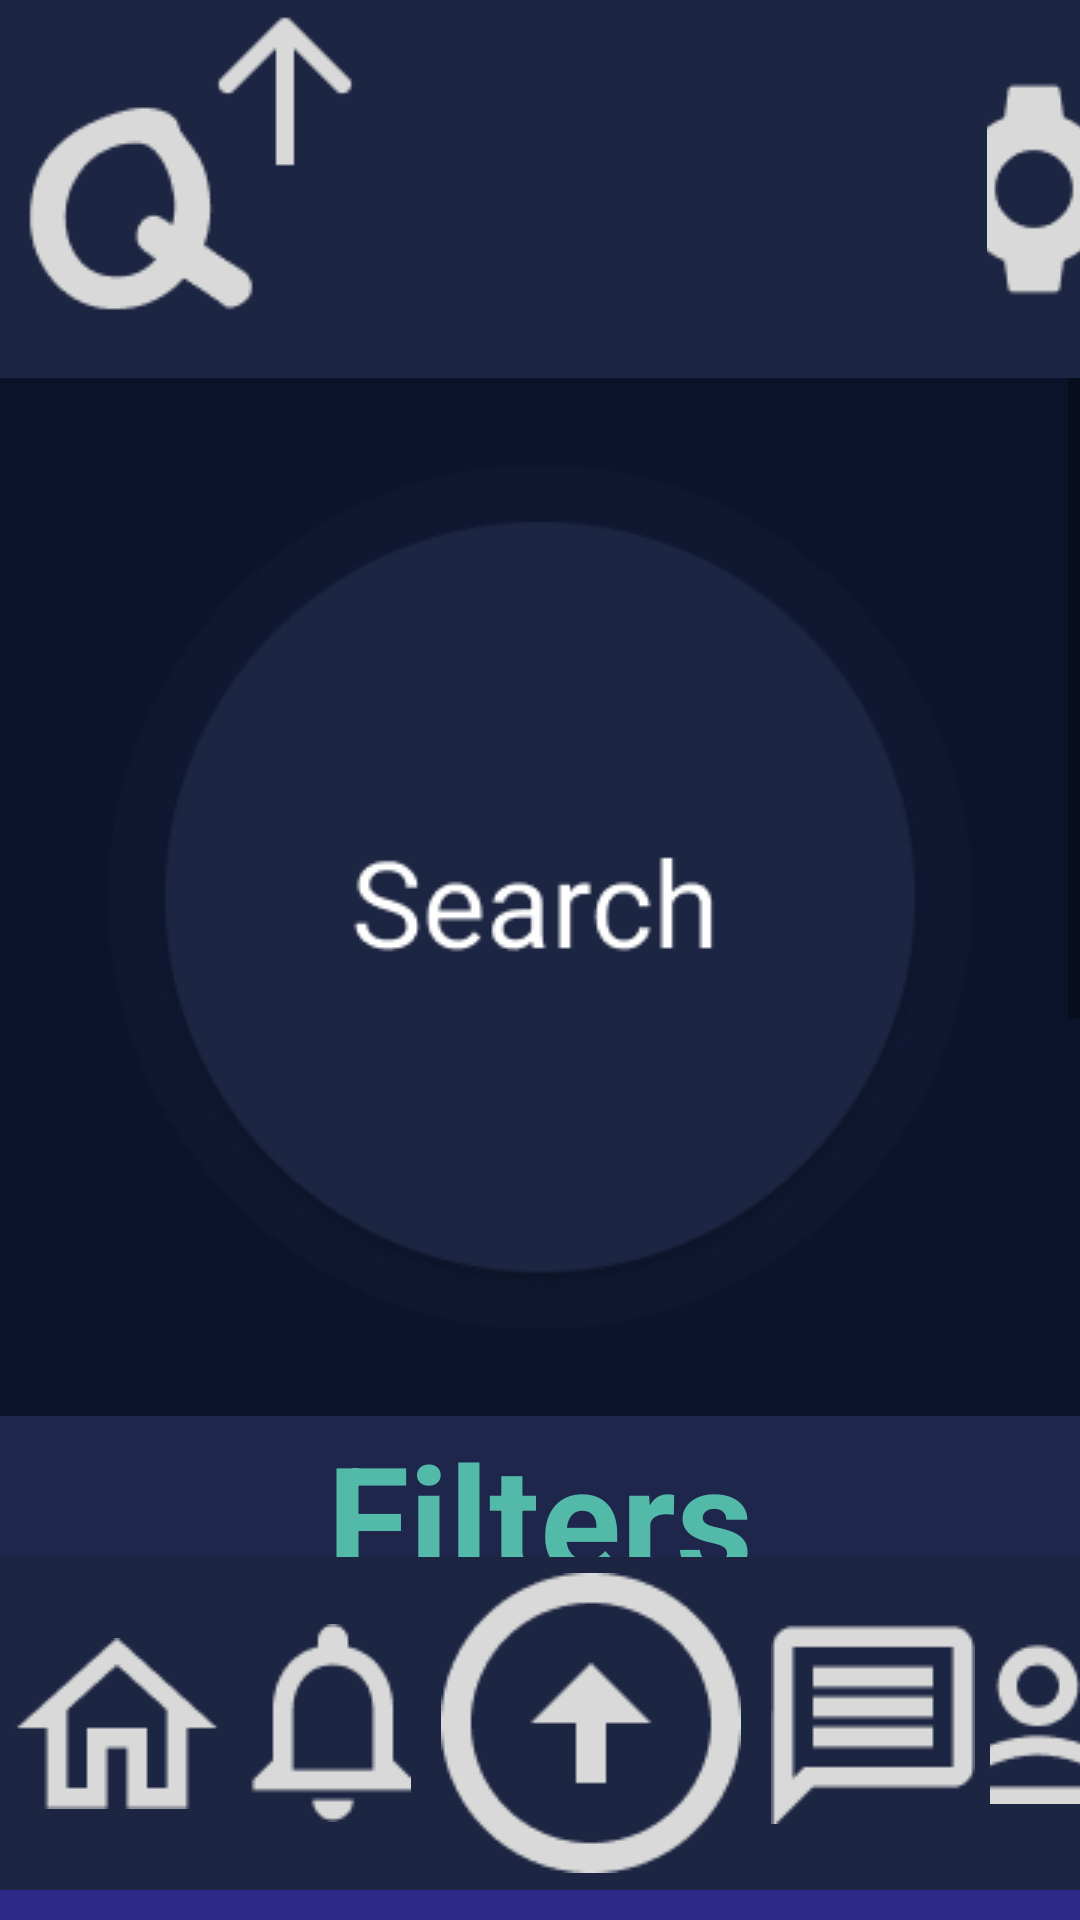

Icon click points for this 1080w x 1920h phone screenshot, format (x=x, y=y):
Chat Button: (x=873, y=1724)
Home Button: (x=117, y=1723)
Notifications Button: (x=331, y=1723)
Profile Button: (x=1035, y=1724)
